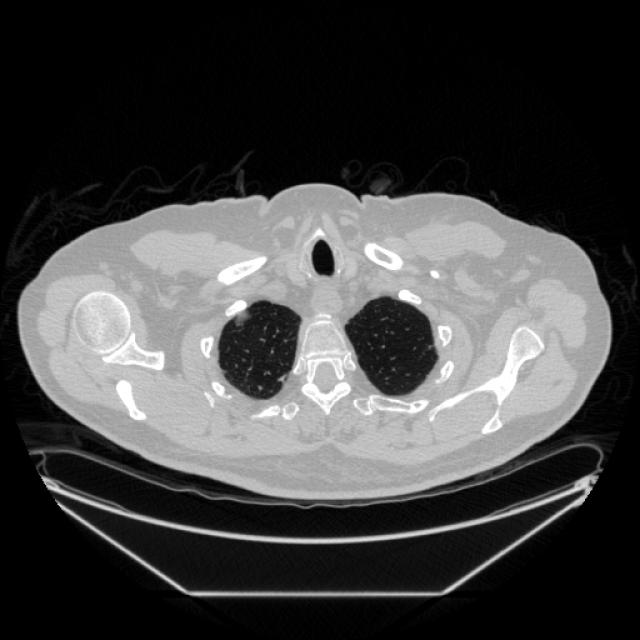nodule: (229, 302, 256, 330)
